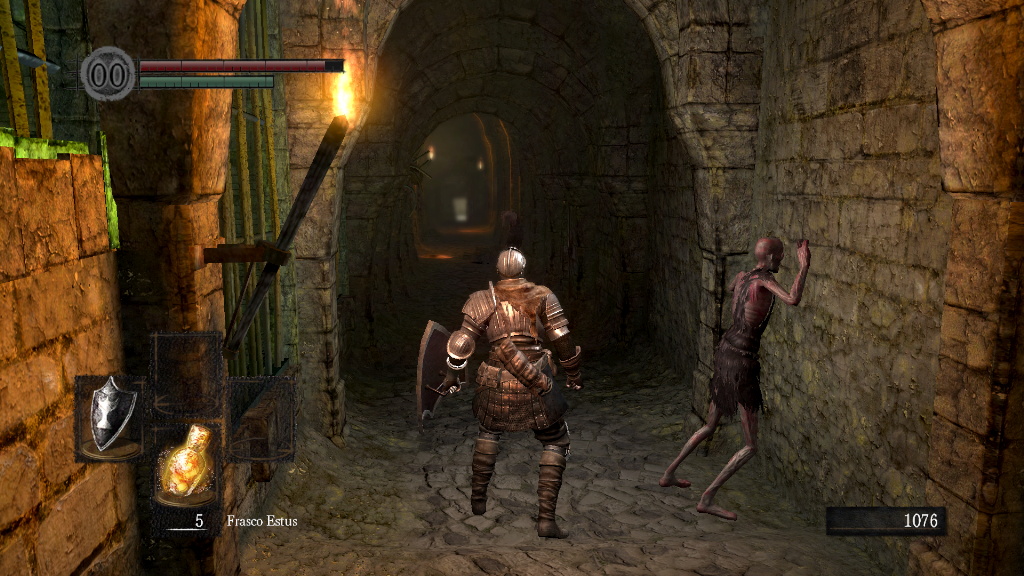health: (138, 58, 343, 71)
hollow: (659, 235, 814, 522)
humanity: (80, 45, 136, 102)
player: (416, 245, 587, 540)
souls: (825, 506, 945, 536)
stamina: (138, 74, 274, 88)
